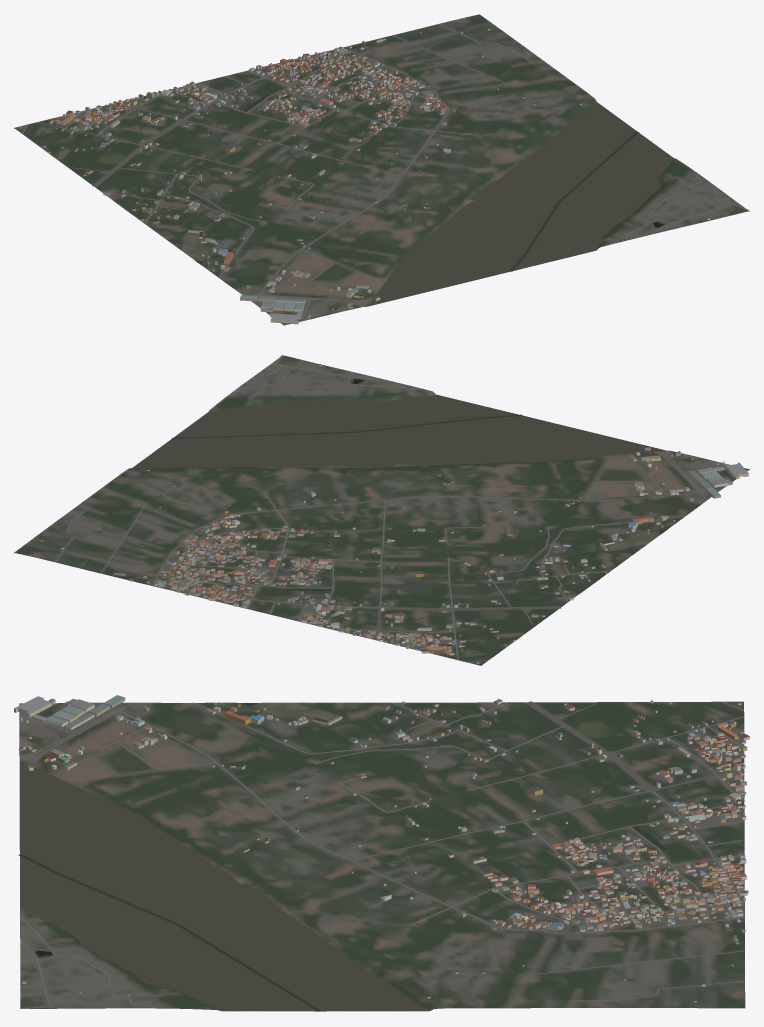
3 renders of one model, top to bottom at view 1: azimuth 30°, elevation 25°; view 2: azimuth 150°, elevation 25°; view 3: azimuth 270°, elevation 25°, orthographic. The views are drawn at different scales.
Visible parts, largest first — view 1: ground, water, buildings, roads; view 2: ground, water, buildings, roads; view 3: ground, water, buildings, roads.
Boxes of the visible parts, box(x1,y1,x2,y2) form: ground: box(14, 14, 749, 325); water: box(196, 94, 672, 305); buildings: box(18, 28, 710, 324); roads: box(22, 24, 749, 321); ground: box(14, 355, 749, 665); water: box(133, 379, 666, 591); buildings: box(40, 364, 748, 663); roads: box(55, 355, 724, 662); ground: box(19, 701, 745, 1011); water: box(18, 703, 667, 1011); buildings: box(14, 695, 749, 1002); roads: box(19, 701, 745, 1008).
Size of the model in its own units: 1425 by 20.98 by 1423.
